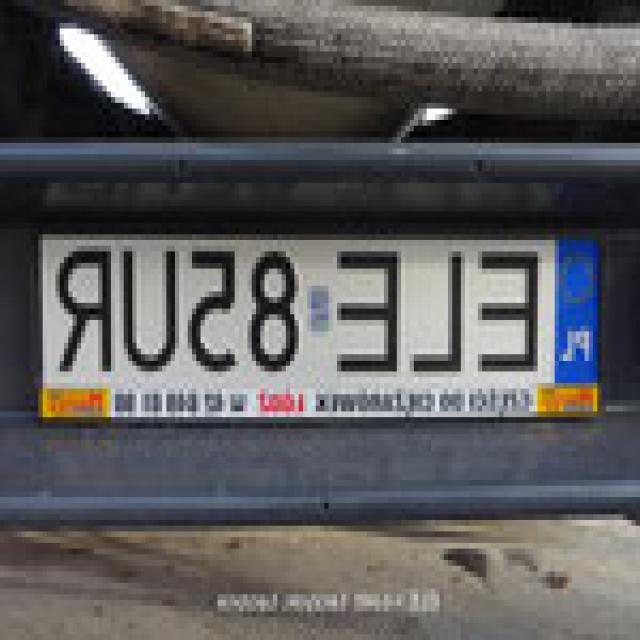pl_license_plate: (47, 234, 602, 377)
